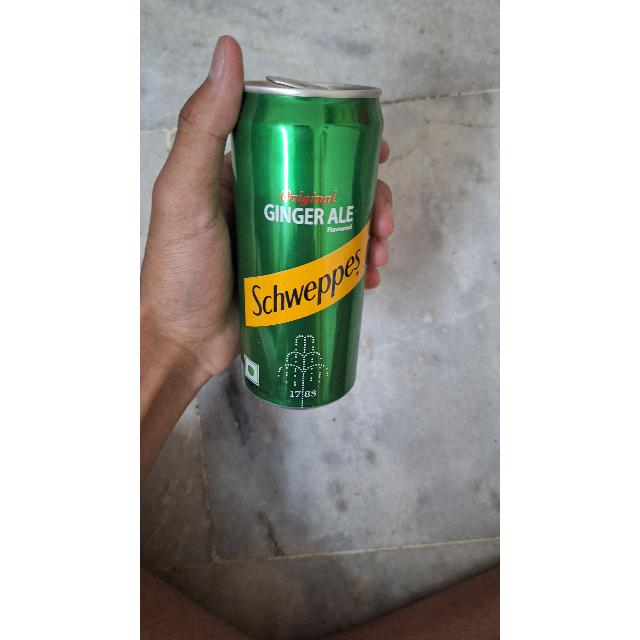Schweppes: (232, 79, 378, 417)
